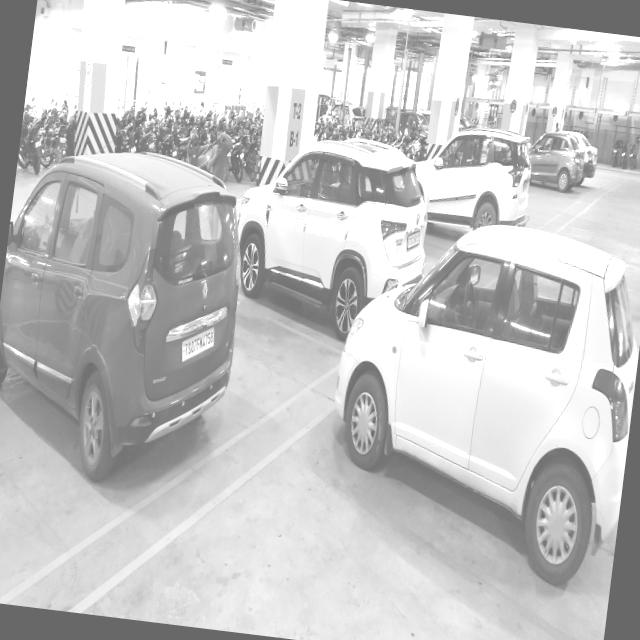car: (352, 362, 594, 556), (0, 277, 203, 457), (240, 229, 384, 317), (434, 152, 510, 224)
free: (160, 480, 431, 640), (212, 304, 318, 426)
